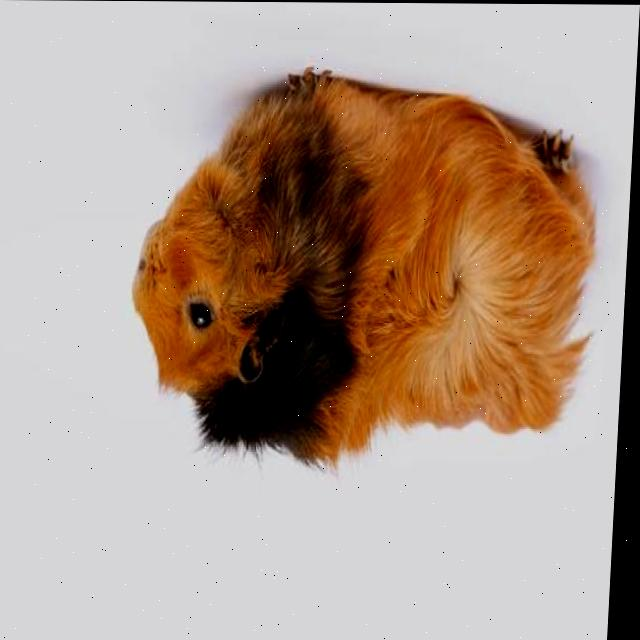guinea pig: (126, 65, 605, 463)
